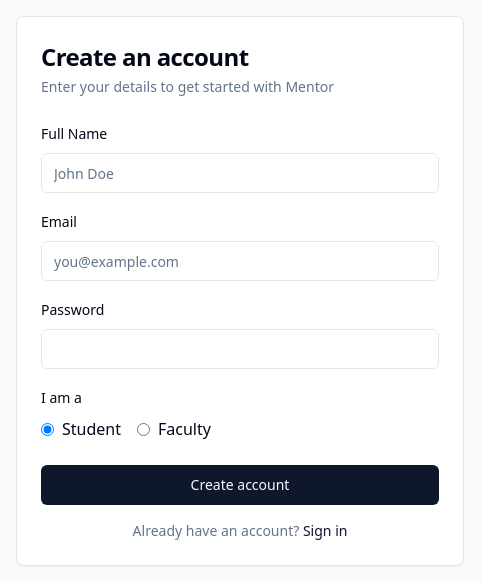
Test case: Register › role selection › should allow selecting faculty role
Click the radio button labelled "Faculty": (144, 429) [137,422,150,436]
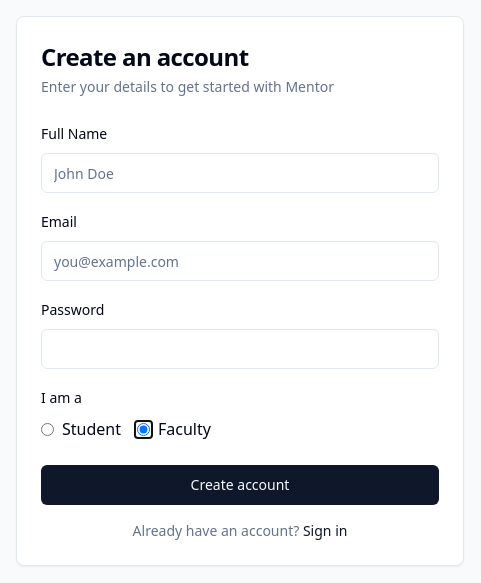
Expected: the radio button labelled "Faculty" is checked, [137,422,150,436]
Expected: the radio button labelled "Student" is not checked, [41,422,54,436]
